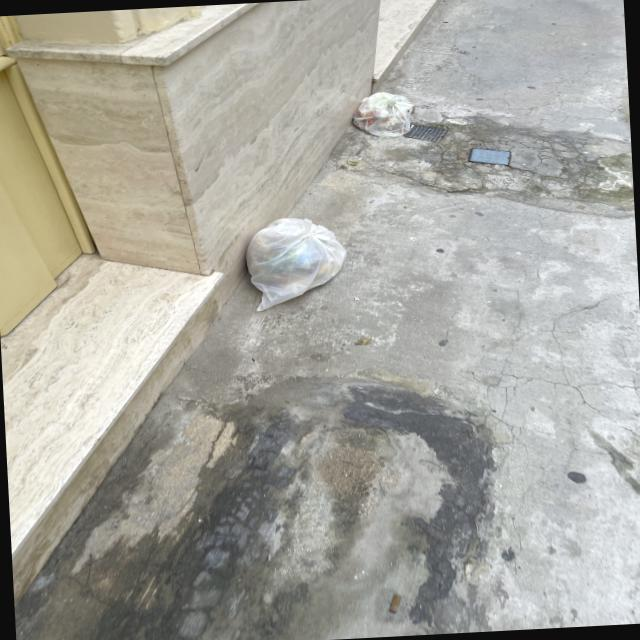white_bag: (232, 212, 352, 314), (348, 88, 428, 137)
